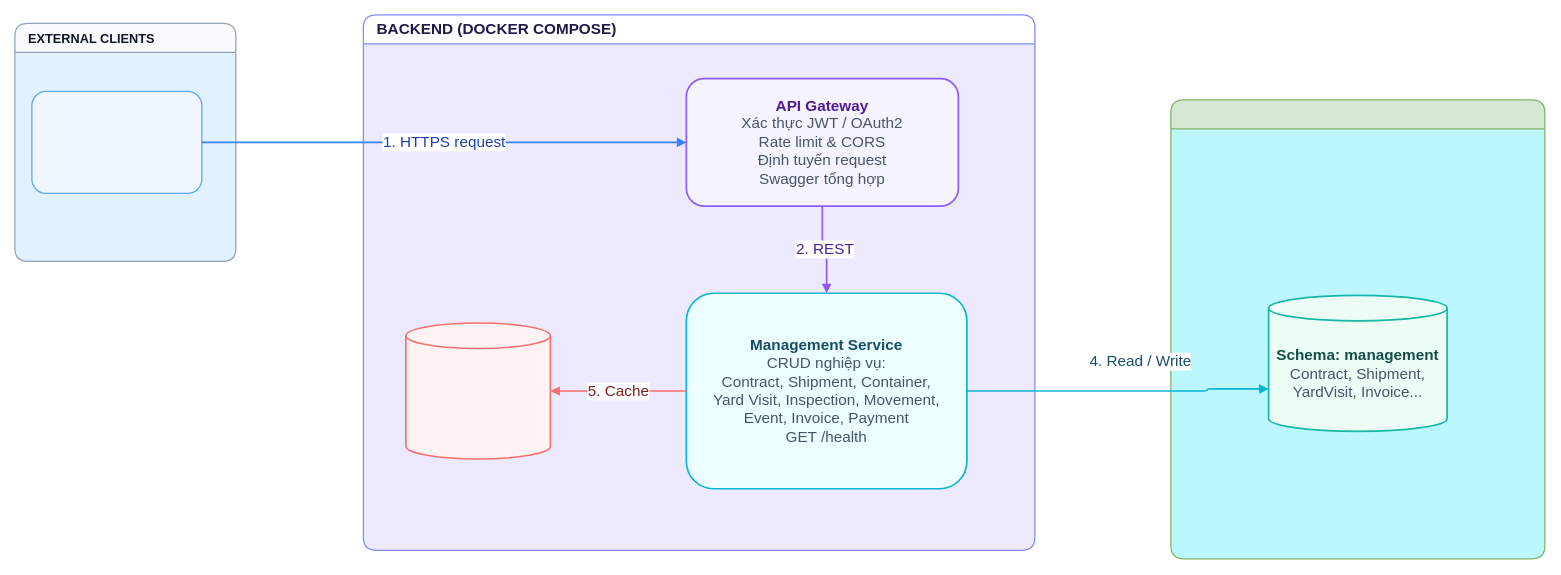
Image size: 1561x575. Some labels were removed from this diagram. The shapes that lost their labels are listed below. From the top down, each one's box as (x1, y1, x2, y2) in pixels, then its label:
(31, 90, 202, 194): Client Web / Mobile App Đăng nhập JWT / OAuth2
(1170, 99, 1545, 559): DATABASE — 1 PostgreSQL instance, 2 schema riêng
(405, 322, 551, 459): Redis Cache Slot trống, tra cứu container
